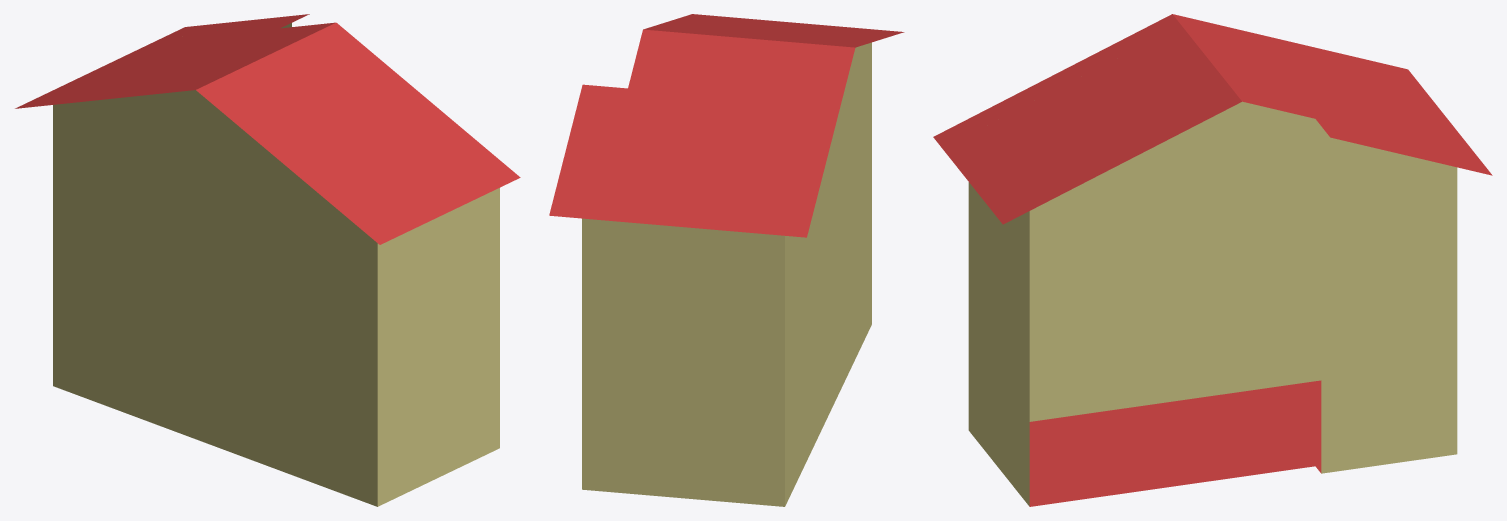
The picture shows the model from 3 angles, left to right: view 1: azimuth 30°, elevation 25°; view 2: azimuth 150°, elevation 25°; view 3: azimuth 270°, elevation 25°; orthographic projection. The views are drawn at different scales.
Bounding box in the file's own units: 6.51 × 9.91 × 7.33.
